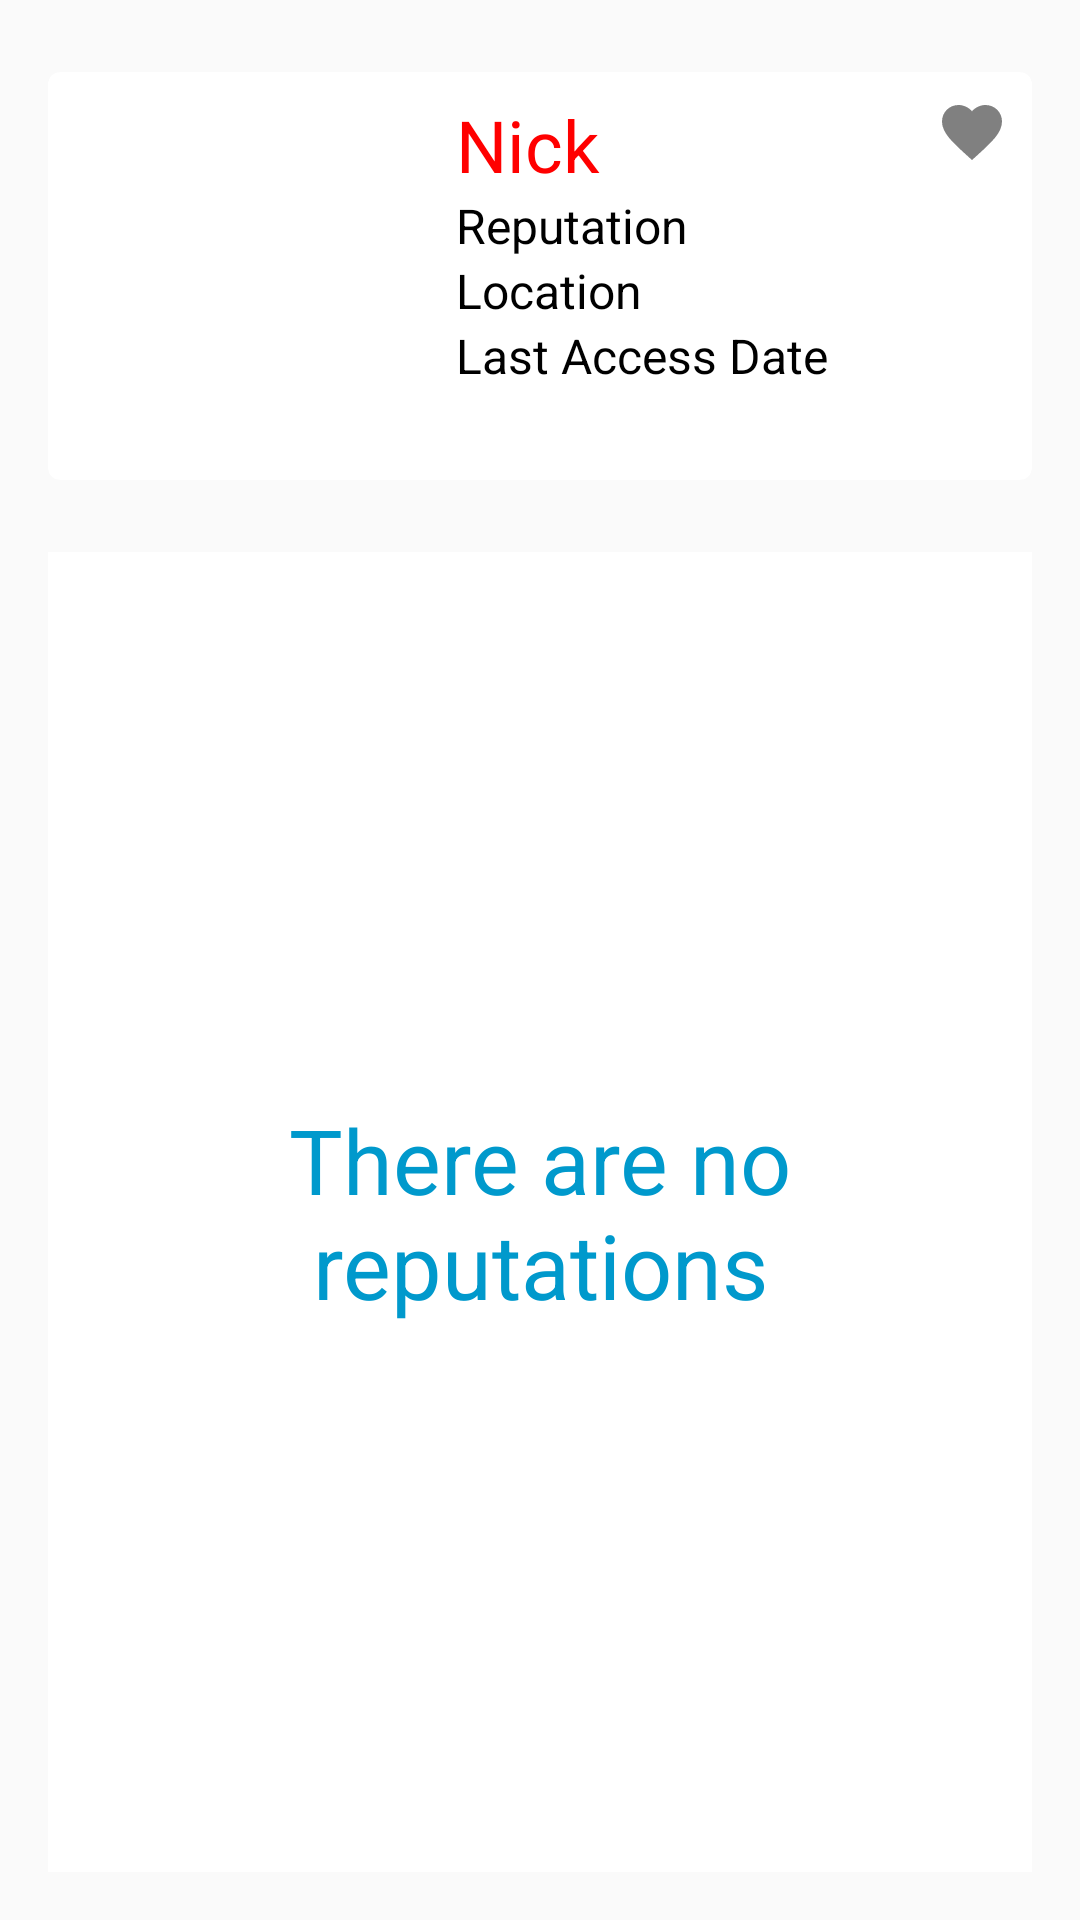

Locate icon controls on the screen. Image size 1080×1920, boxes as (x1, y1, x2, y2).
favorite: (942, 105, 1002, 160)
